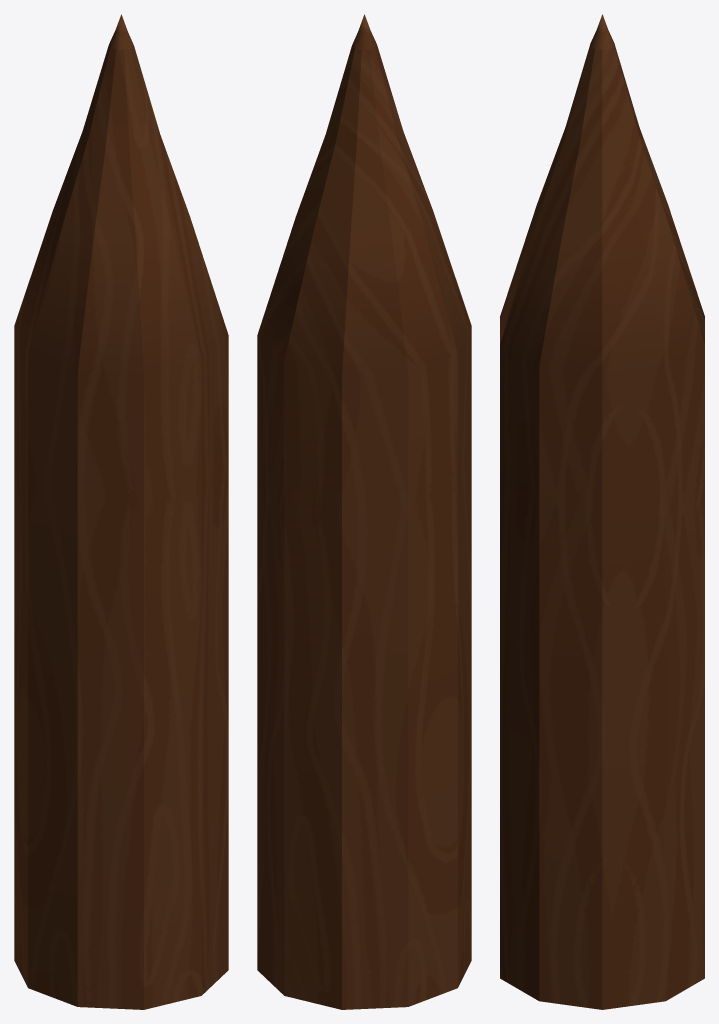
Rendered from stake.fbx.
3 views of the same model, side by side, from view 1: azimuth 30°, elevation 25°; view 2: azimuth 150°, elevation 25°; view 3: azimuth 270°, elevation 25° (orthographic).
Parts seen in each view (by area): view 1: stake; view 2: stake; view 3: stake.
Part boxes in pixels (x1,y1,x2,y2): stake: (14,14,228,1009); stake: (257,14,471,1009); stake: (500,14,704,1009).
Bounding box in the file's own units: 3.09 × 15.07 × 2.94.
